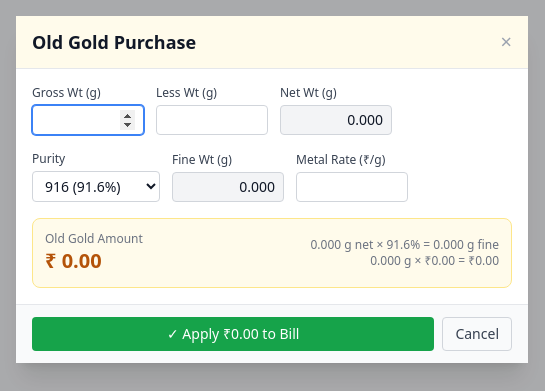
Test: OldGoldPurchaseModal › calculations › calculates amount = fine weight × metal rate
In the number field with test id "og-gross-weight": (88,120) [32, 104, 144, 134], type "10"
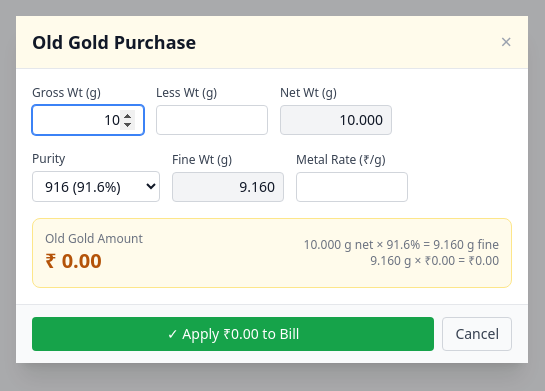
In the number field with test id "og-metal-rate": (352,186) [296, 172, 408, 202], type "7000"
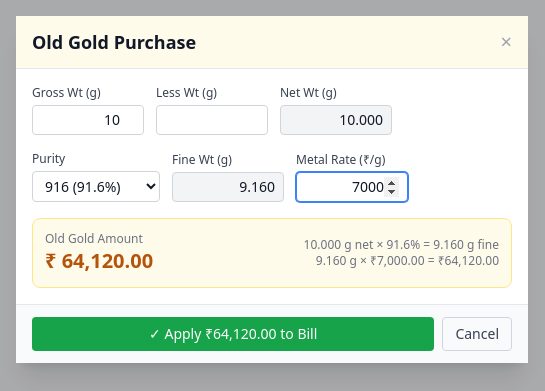
Now the text with test id "og-amount" shows "64,120", box [62, 246, 153, 274]
